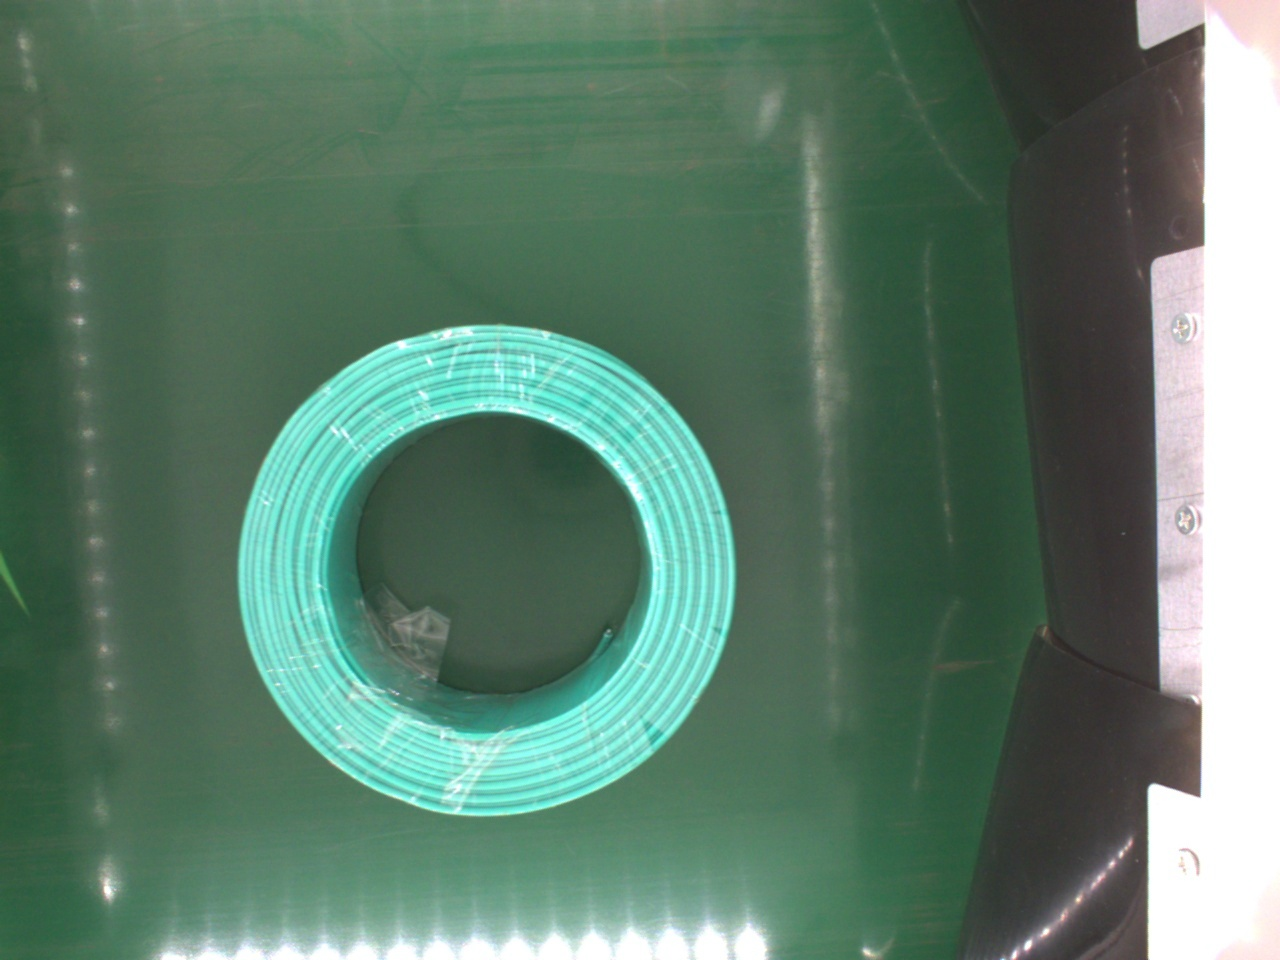green: (231, 322, 740, 821)
